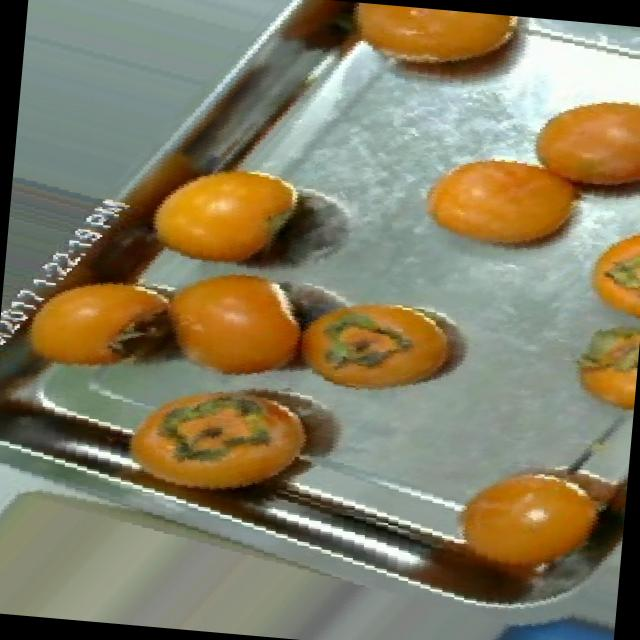Fruit: (418, 434, 629, 640), (402, 138, 606, 272), (281, 286, 484, 416), (140, 263, 331, 398), (323, 0, 531, 103), (507, 78, 640, 216), (557, 309, 640, 421), (573, 216, 640, 329)
